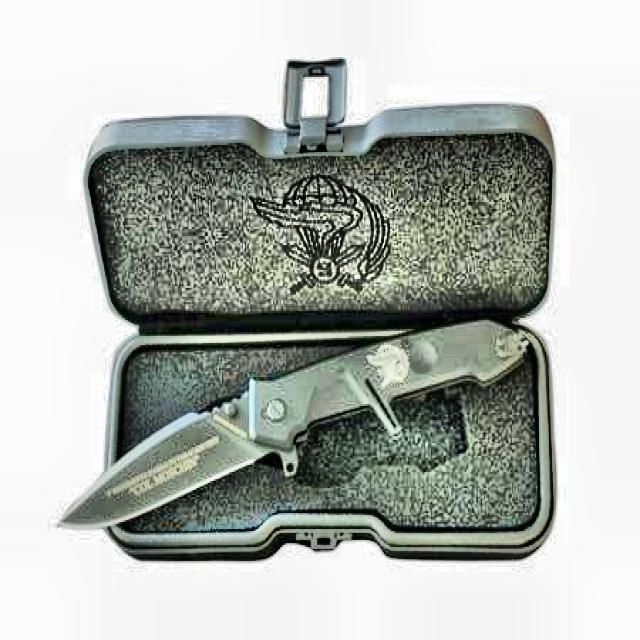knife: (56, 322, 525, 532)
